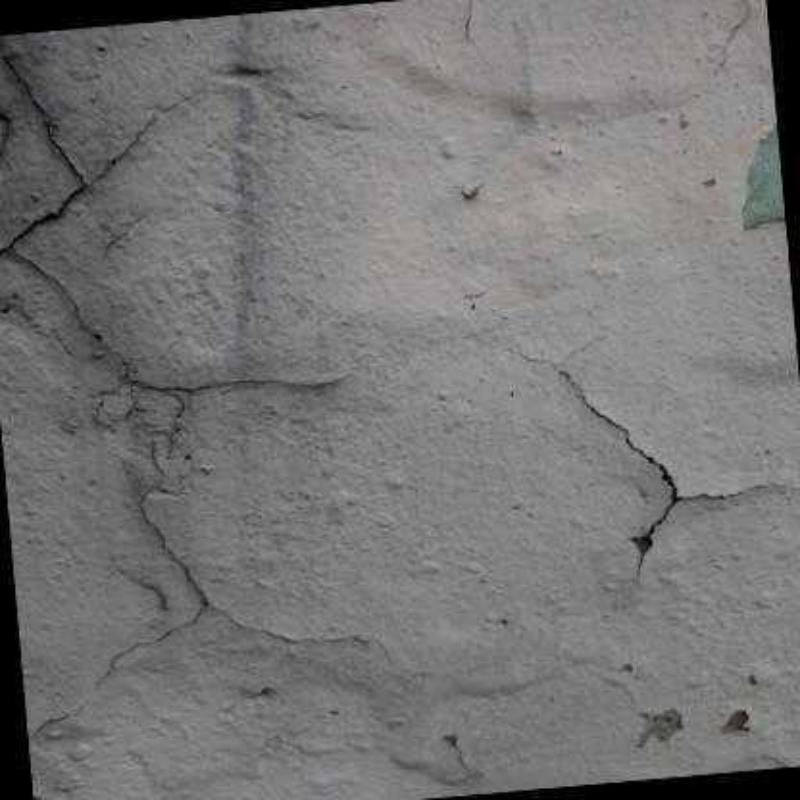pothole: (12, 250, 352, 498), (35, 496, 359, 733), (552, 364, 759, 584), (0, 54, 201, 255)
